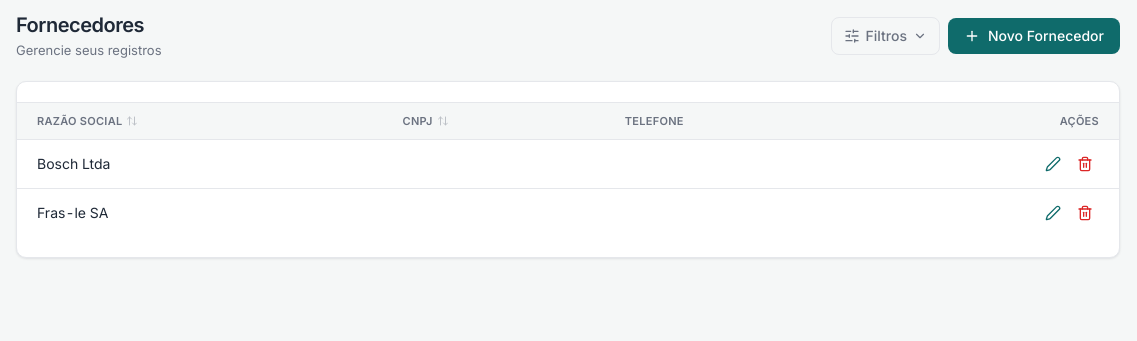
Test: <SupplierList> › filtra por razão social pelo painel de Filtros
The width and height of the screenshot is (1137, 341).
Check: the text "Fras-le SA" is shown, box [17,188,383,237]
Click the button "Filtros": (885, 36) [830,17,940,55]
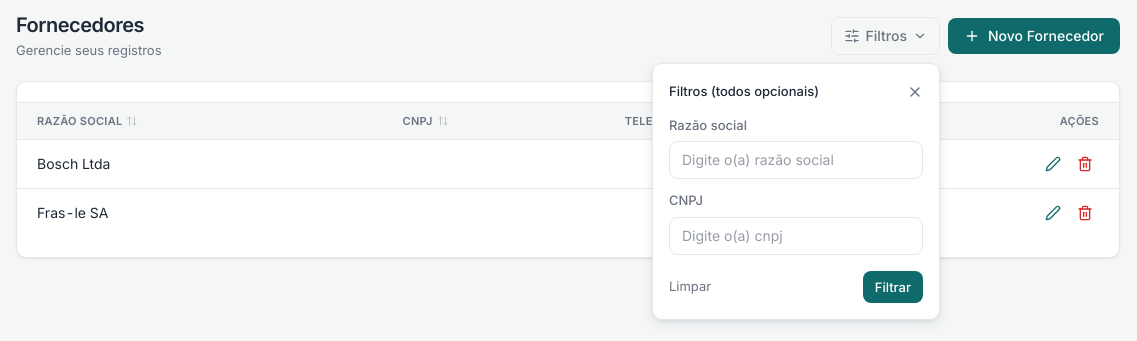
In the field with placeholder "Digite o(a) razão social": (796, 160) [669,141,923,179], type "Bosch"
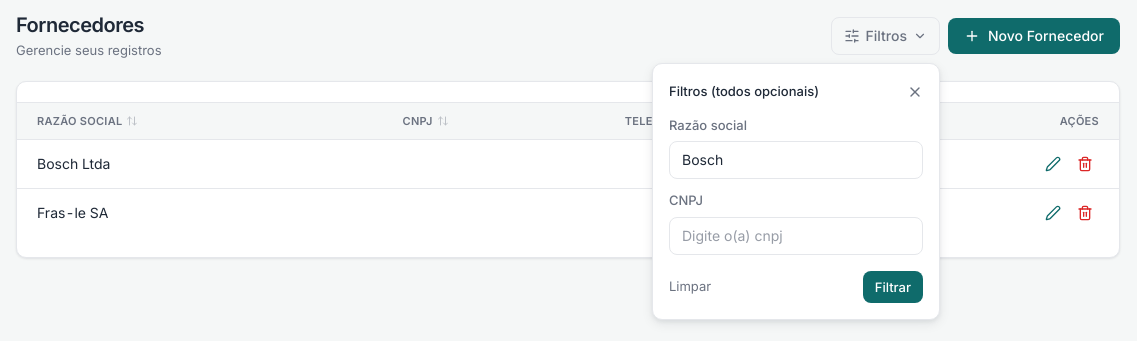
Click the button "Filtrar": (893, 287) [863,271,923,303]
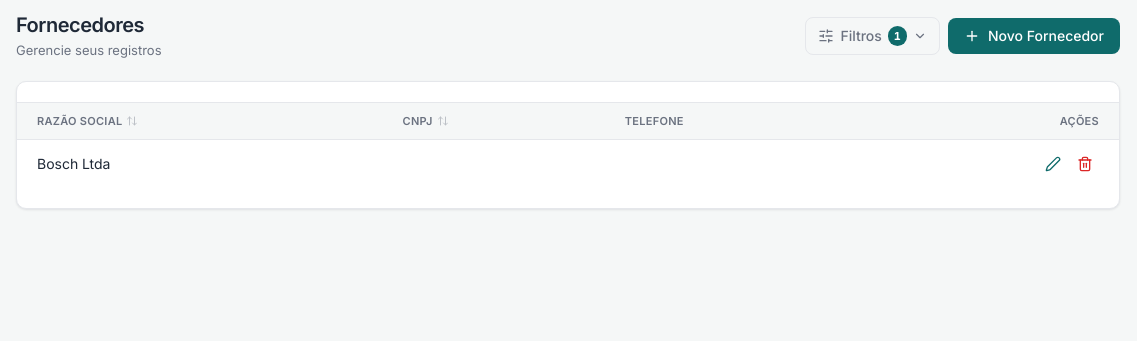
Check: the text "Bosch Ltda" is shown, box [17,140,383,188]
Check: the text "Fras-le SA" is gone
